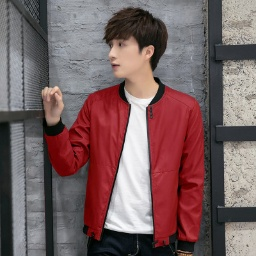face: (107, 8, 168, 79)
